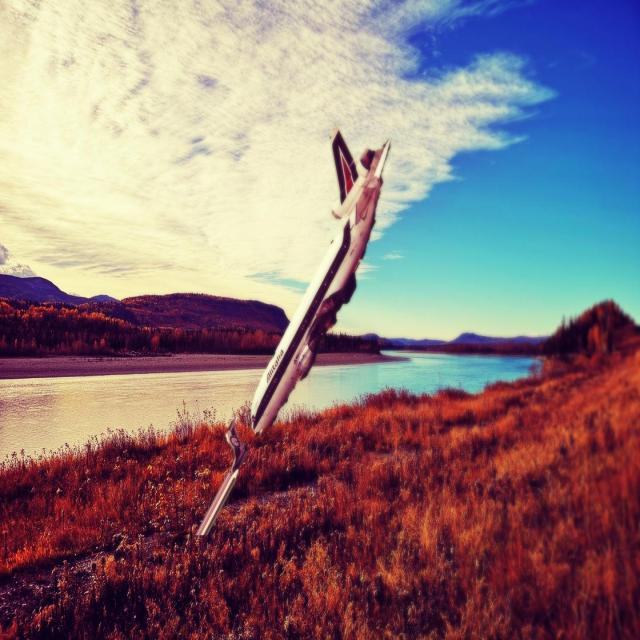airplane: (195, 124, 391, 537)
